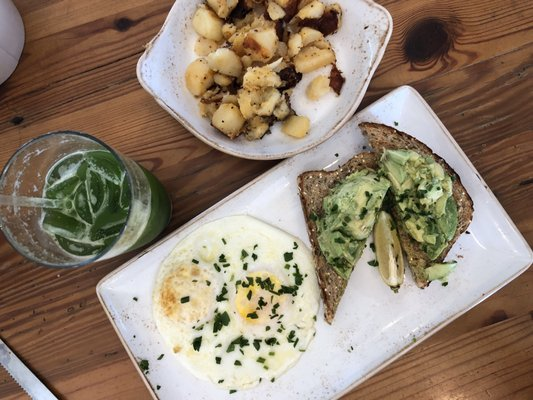sushi: (136, 0, 393, 161), (0, 130, 167, 269)
